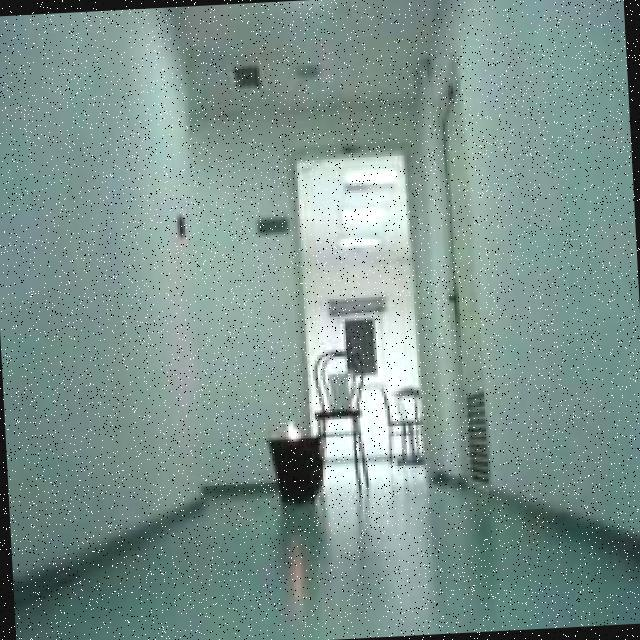Fire: (282, 414, 304, 441)
